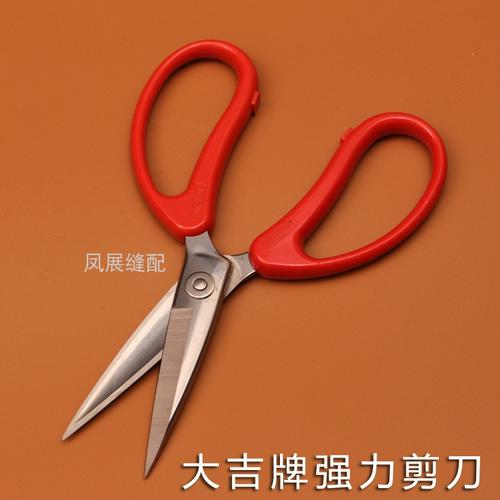scissor: (61, 38, 450, 481)
